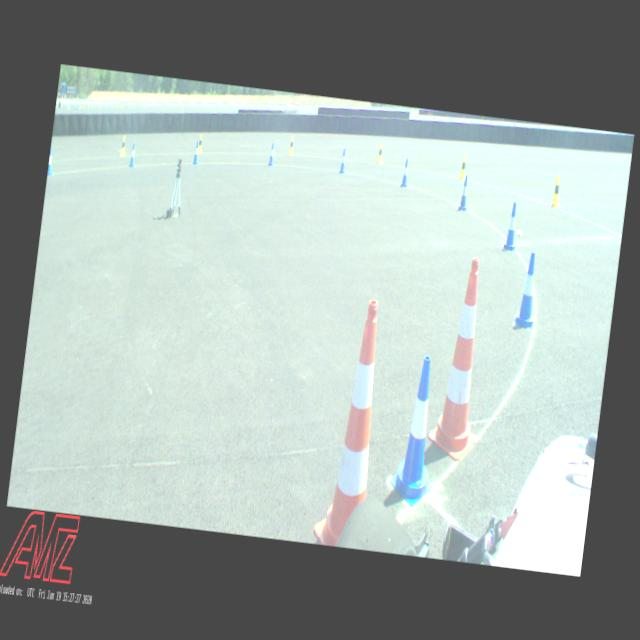blue_cone: (388, 352, 448, 506), (514, 250, 541, 328), (502, 201, 521, 252), (458, 174, 470, 211), (400, 158, 410, 187), (128, 142, 138, 167), (338, 148, 348, 173), (47, 147, 55, 176), (192, 140, 201, 164), (268, 142, 276, 166)
large_orange_cone: (312, 296, 390, 548), (426, 254, 498, 464)
yellow_cone: (549, 175, 563, 208), (458, 154, 468, 180), (376, 142, 384, 164), (120, 135, 128, 156), (288, 134, 295, 154), (198, 134, 204, 152)
